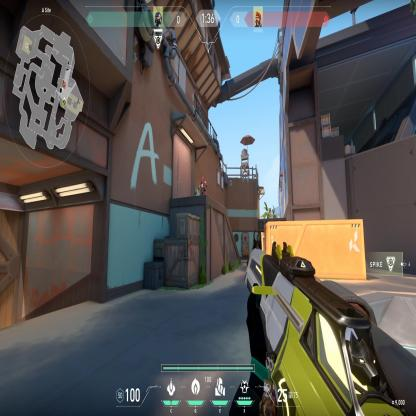enemy: (199, 175, 207, 195)
